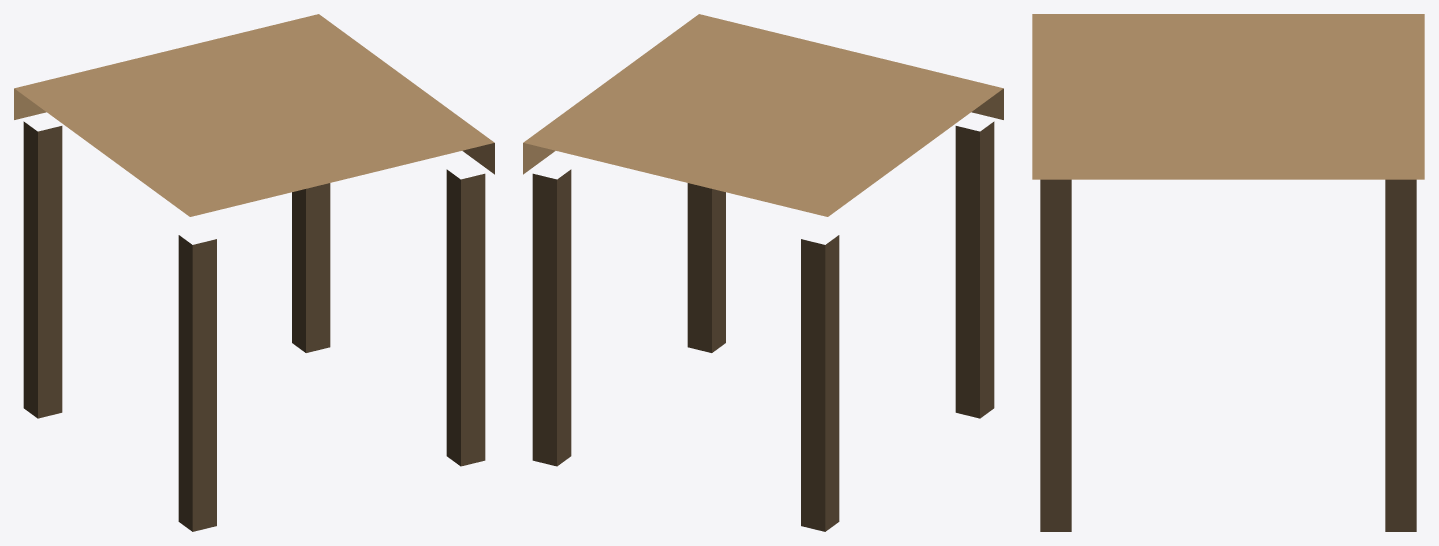
The model's file is Table-multicolor.glb.
3 renders of one model, left to right at view 1: azimuth 30°, elevation 25°; view 2: azimuth 150°, elevation 25°; view 3: azimuth 270°, elevation 25°, orthographic. The views are drawn at different scales.
Visible parts, largest first — view 1: Table; view 2: Table; view 3: Table.
Boxes of the visible parts, x1,y1,x2,y2 form: Table: (14,14,494,531); Table: (523,14,1003,531); Table: (1032,14,1424,531).
Bounding box in the file's own units: 1 × 1 × 1.
